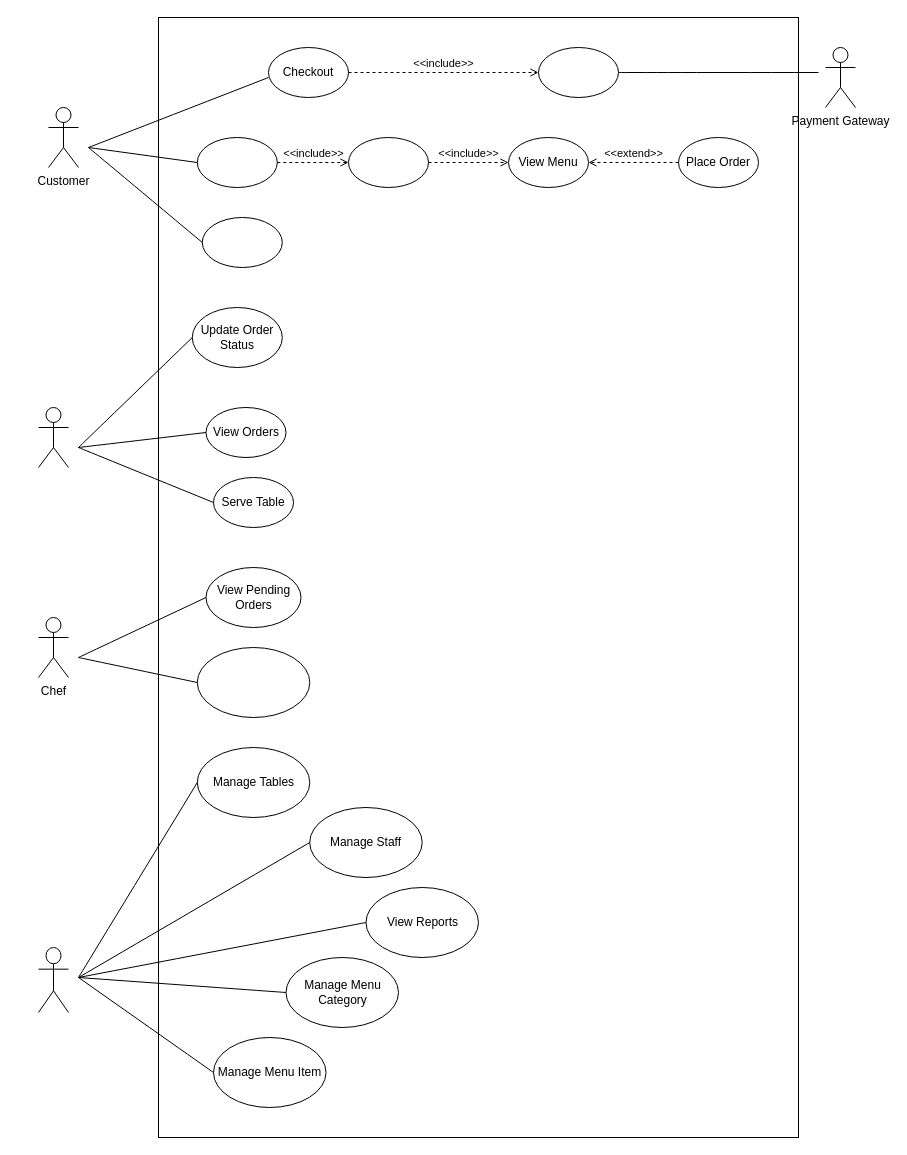
Some shapes in this 907 by 1155 pixel diagram are drawn without their labels. Each missing label, with the centre of its shape:
"Identify Table" goes at point (388, 162).
"Make Payment" goes at point (578, 72).
"Scan Table QR" goes at point (236, 162).
"Tenant Admin" goes at point (53, 979).
"Track Order Status" goes at point (241, 242).
"Update Cooking Status" goes at point (253, 682).
"Waiter" goes at point (53, 437).
